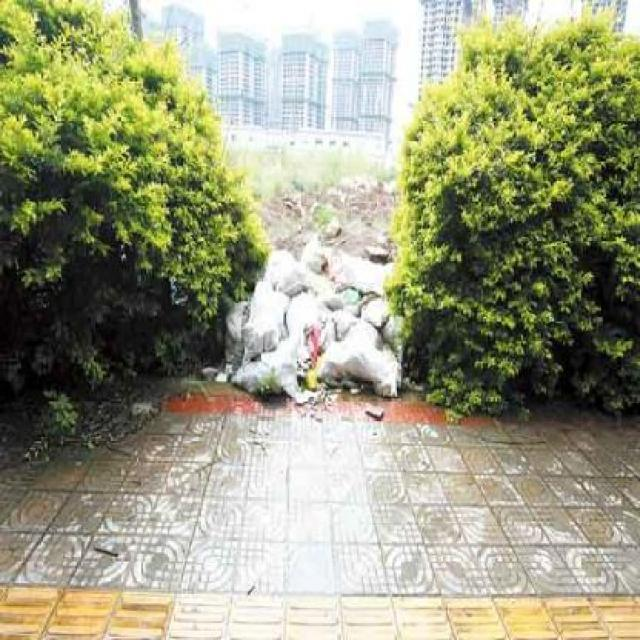garbage: (217, 220, 404, 407)
